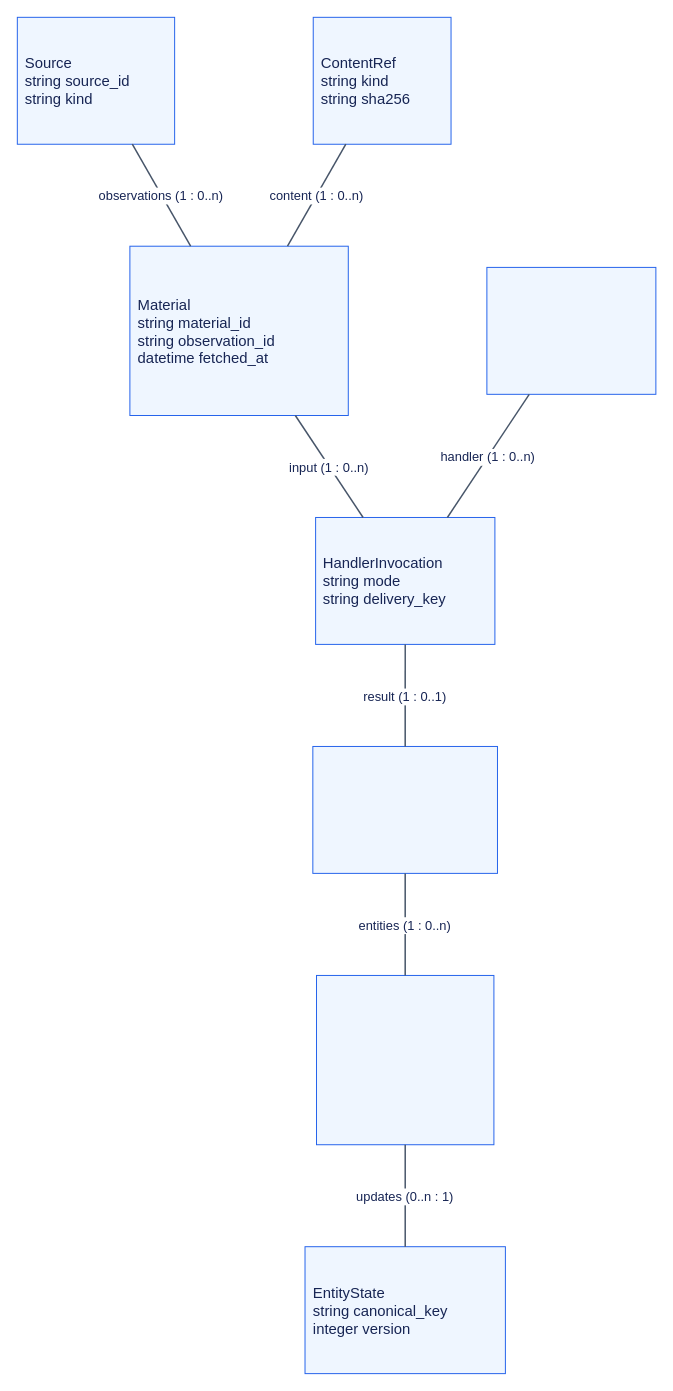
This 673x1391 diagram has some shape labels left out. The shapes that lost their labels are listed below. From the top down, each one's box as (x1, y1, x2, y2) in pixels, then its label:
(486, 266, 656, 394): PackageRef string package_id string version
(312, 745, 497, 873): HandlerResult string invocation_id string status
(316, 974, 494, 1145): EntityRecord string entity_type object key object fields
